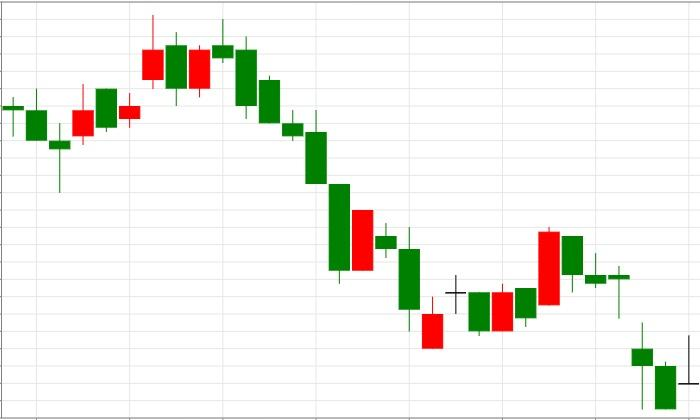shooting_star_fall: (49, 15, 164, 194)
